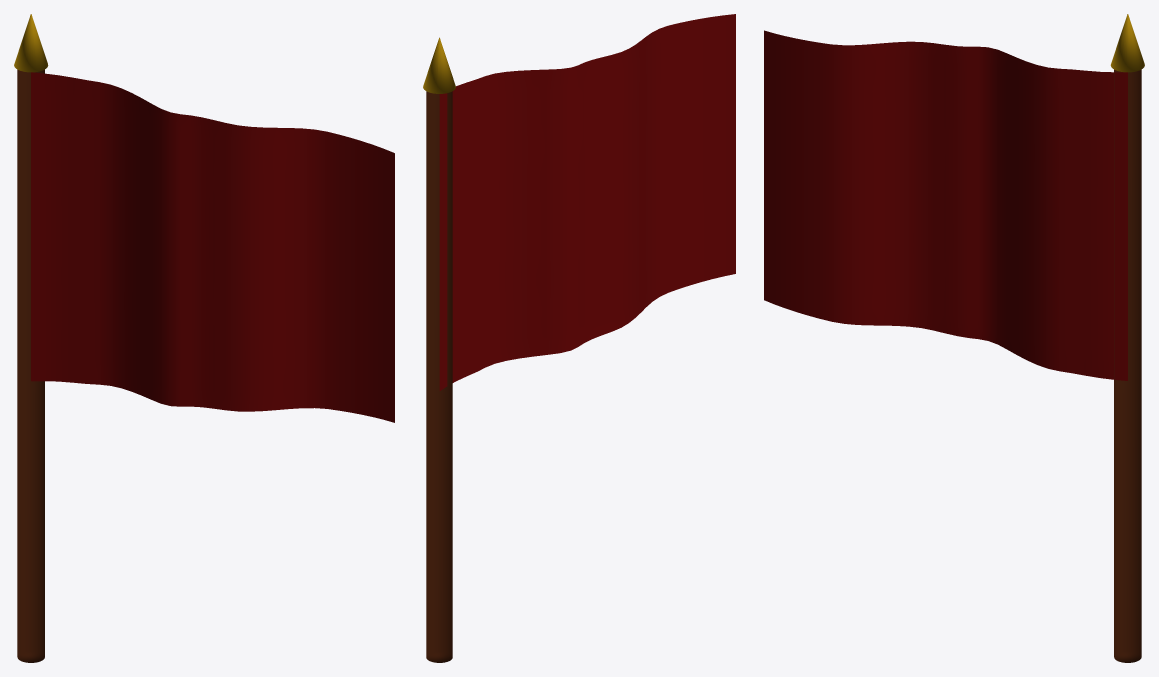
File: frame2.obj
The picture shows the model from 3 angles, left to right: view 1: azimuth 90°, elevation 25°; view 2: azimuth 150°, elevation 25°; view 3: azimuth 270°, elevation 25°; orthographic projection. The views are drawn at different scales.
Visible parts, largest first — view 1: Plane, Circle; view 2: Plane, Circle; view 3: Plane, Circle.
Boxes of the visible parts, <box> form: Plane: <box>31,72,394,422</box>; Circle: <box>14,14,48,662</box>; Plane: <box>439,14,735,390</box>; Circle: <box>423,37,455,662</box>; Plane: <box>764,30,1127,380</box>; Circle: <box>1110,14,1144,662</box>.
Size of the model in its own units: 1.2 by 5.23 by 2.8.
